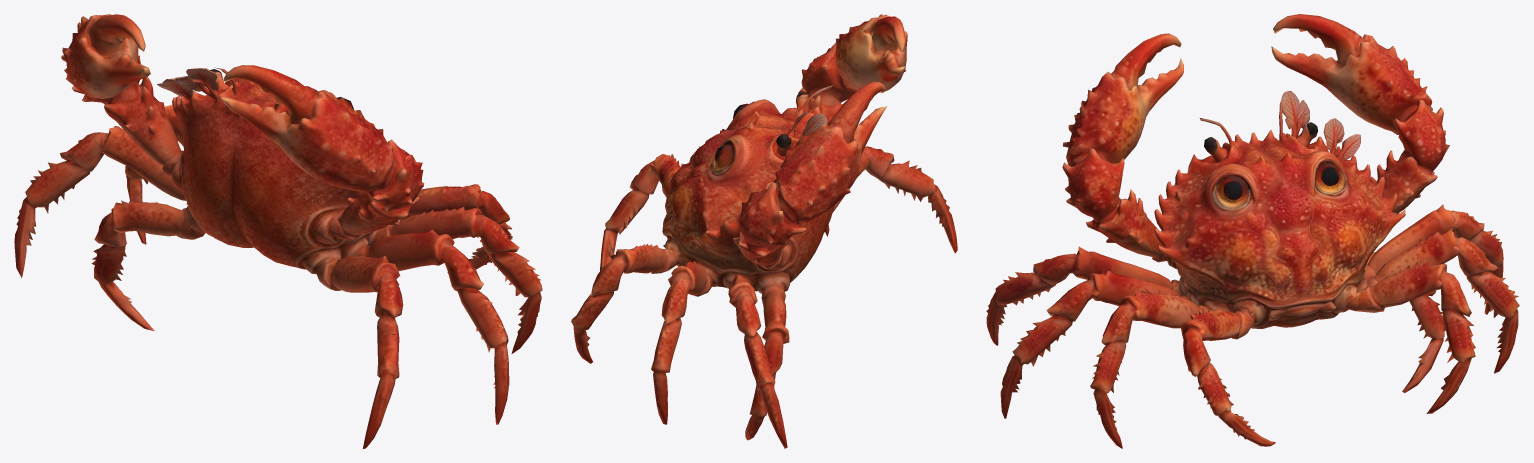
The model's file is krabbe.glb.
3 views of the same model, side by side, from view 1: azimuth 30°, elevation 25°; view 2: azimuth 150°, elevation 25°; view 3: azimuth 270°, elevation 25° (orthographic). The views are drawn at different scales.
Parts seen in each view (by area): view 1: tripo_node_0df7848e-5ec0-4672-8ebd-8415bcd26f0a; view 2: tripo_node_0df7848e-5ec0-4672-8ebd-8415bcd26f0a; view 3: tripo_node_0df7848e-5ec0-4672-8ebd-8415bcd26f0a.
Part boxes in pixels (x1,y1,x2,y2): tripo_node_0df7848e-5ec0-4672-8ebd-8415bcd26f0a: (14, 14, 542, 448); tripo_node_0df7848e-5ec0-4672-8ebd-8415bcd26f0a: (571, 14, 957, 448); tripo_node_0df7848e-5ec0-4672-8ebd-8415bcd26f0a: (986, 14, 1519, 448).
Size of the model in its own units: 0.2009 by 0.2 by 0.2829.
1 material, 1 textured.
